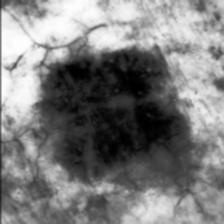Potentially Malignant Skin Tumors: (30, 48, 186, 179)
